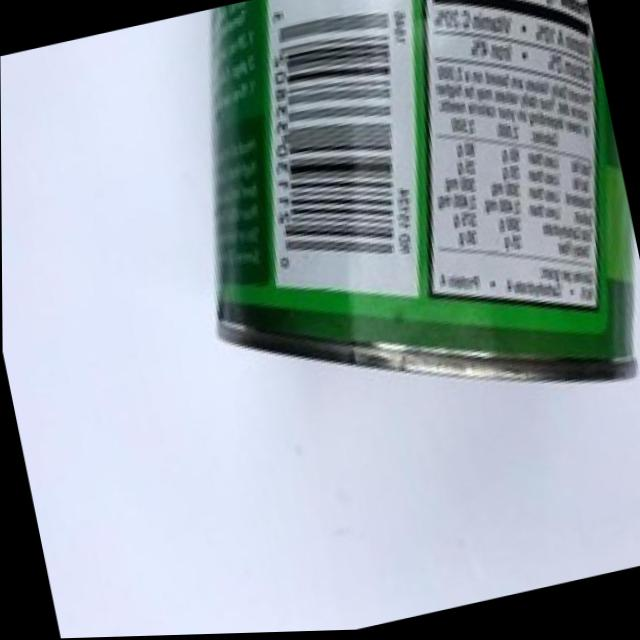metal: (113, 0, 634, 611)
